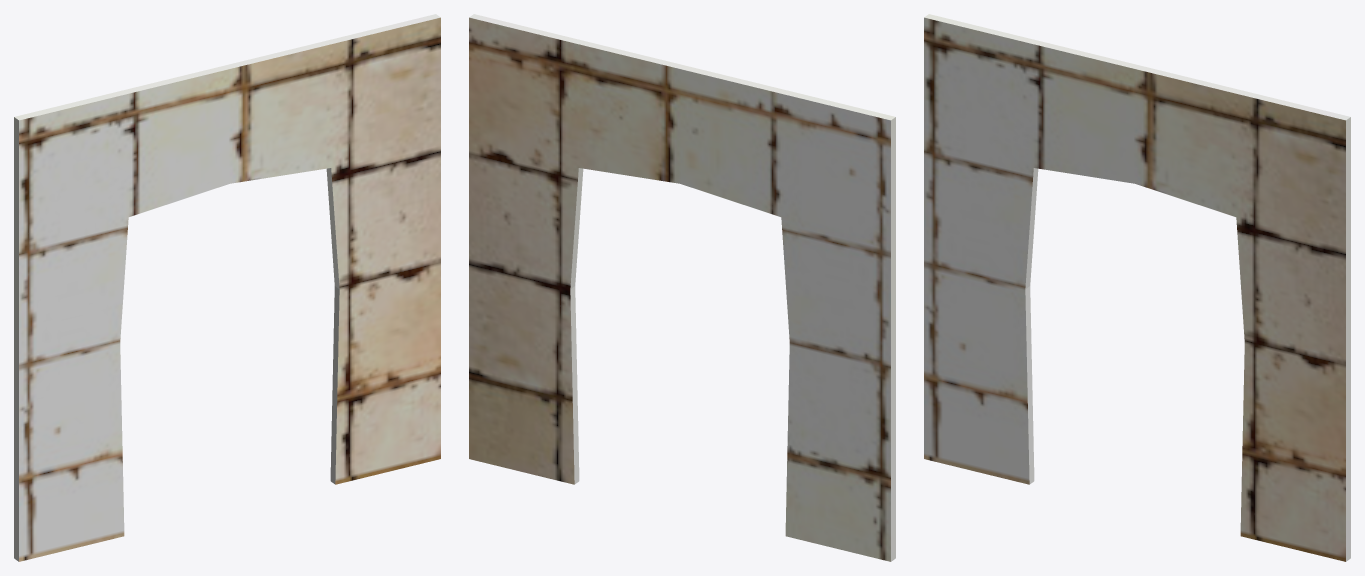
Rendered from Wall_door.fbx.
3 views of the same model, side by side, from view 1: azimuth 30°, elevation 25°; view 2: azimuth 150°, elevation 25°; view 3: azimuth 330°, elevation 25° (orthographic).
Parts seen in each view (by area): view 1: Cube; view 2: Cube; view 3: Cube.
Boxes of the visible parts, box(x1,y1,x2,y2) form: Cube: box(14, 14, 440, 561); Cube: box(469, 14, 895, 561); Cube: box(924, 14, 1350, 561).
Bounding box in the file's own units: 500 × 500 × 10.
1 material, 1 textured.
